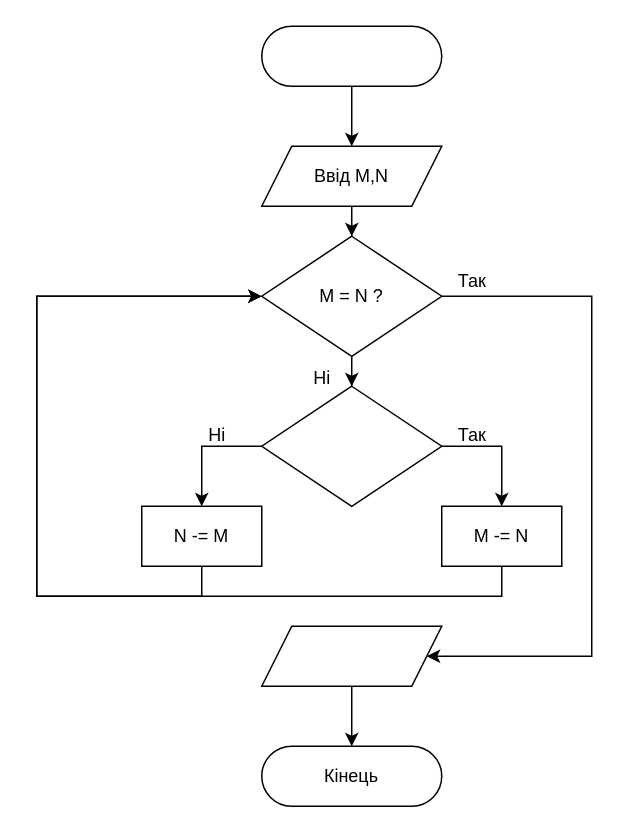
This 630x833 diagram has some shape labels left out. Each missing label, with the centre of its shape:
M > N ?: the point at 351,445
Вивід М: the point at 351,655
Початок: the point at 351,55
